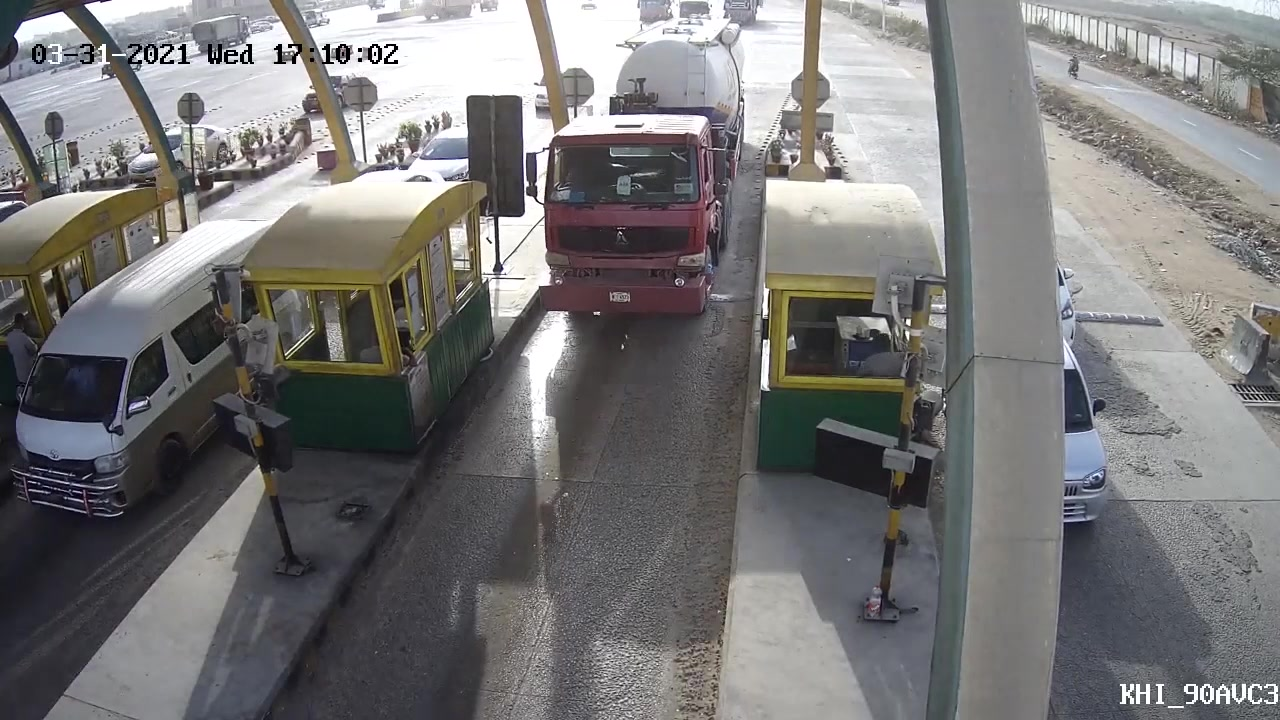F6: (508, 14, 761, 333)
